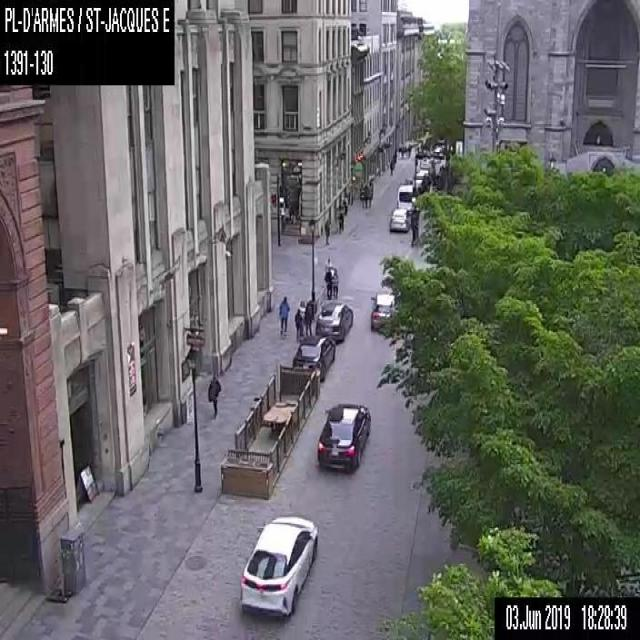pedestrian: (207, 373, 221, 419), (278, 295, 290, 336), (304, 299, 314, 336), (293, 307, 302, 339), (324, 266, 332, 298), (323, 218, 330, 244), (337, 209, 344, 234), (332, 266, 337, 298), (298, 299, 305, 317), (389, 158, 393, 175)
vehicle: (240, 515, 318, 617), (315, 404, 370, 471), (291, 336, 335, 381), (315, 301, 352, 342), (369, 293, 397, 331), (388, 206, 411, 231), (396, 183, 415, 211), (412, 172, 425, 187)
